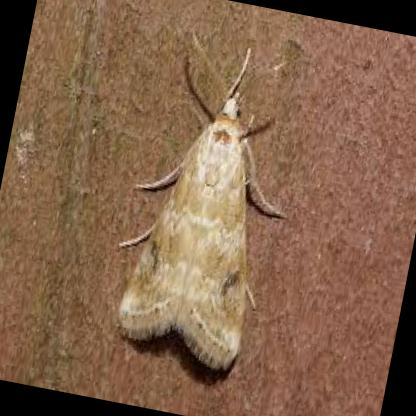Hellula undalis: (110, 27, 288, 389)
